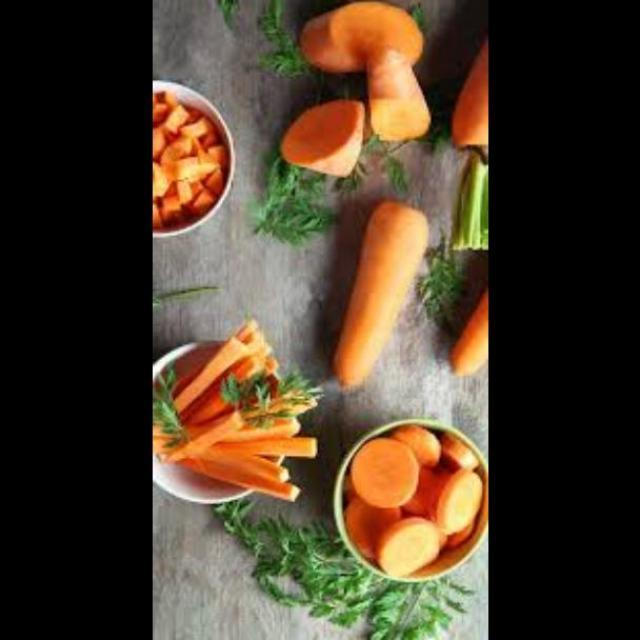Carrot: (154, 339, 310, 507), (331, 199, 437, 388), (366, 448, 482, 572), (272, 93, 372, 189), (152, 96, 221, 232), (289, 1, 426, 68), (362, 49, 440, 158), (450, 34, 489, 154), (442, 294, 489, 382)
